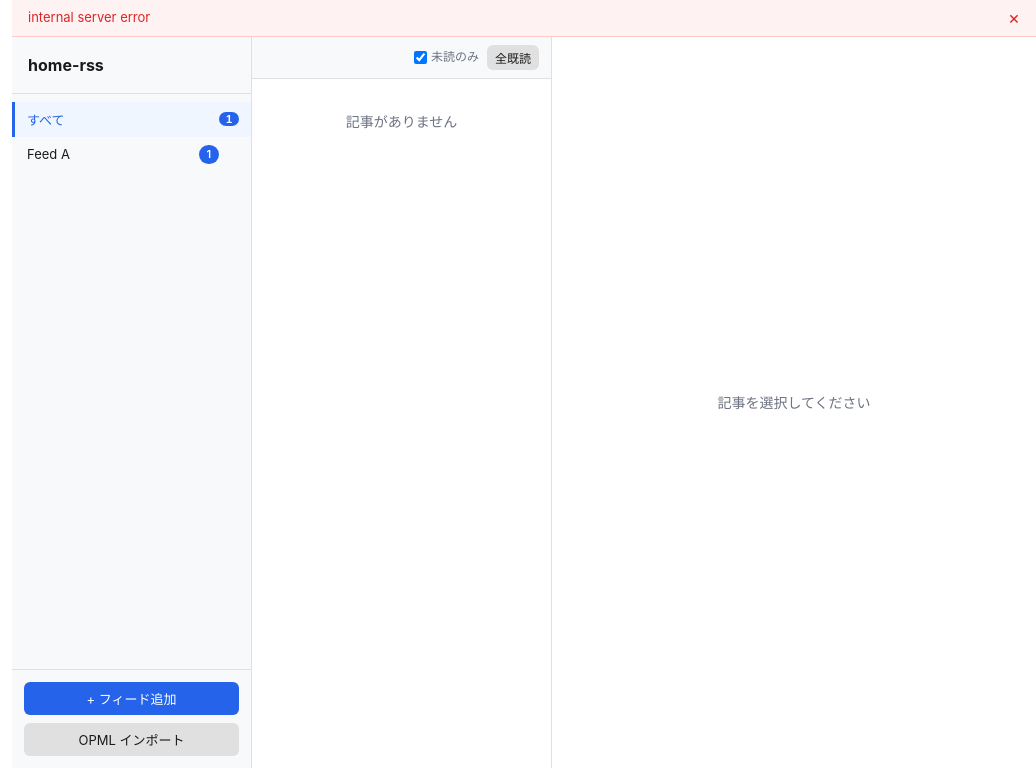
Test: App › the error banner › is cleared when the next action starts
Expected: the element with class "error-banner" is shown, [12,0,1035,36]
Click the button "全既読".
click(513, 57)  # box [487,44,539,70]
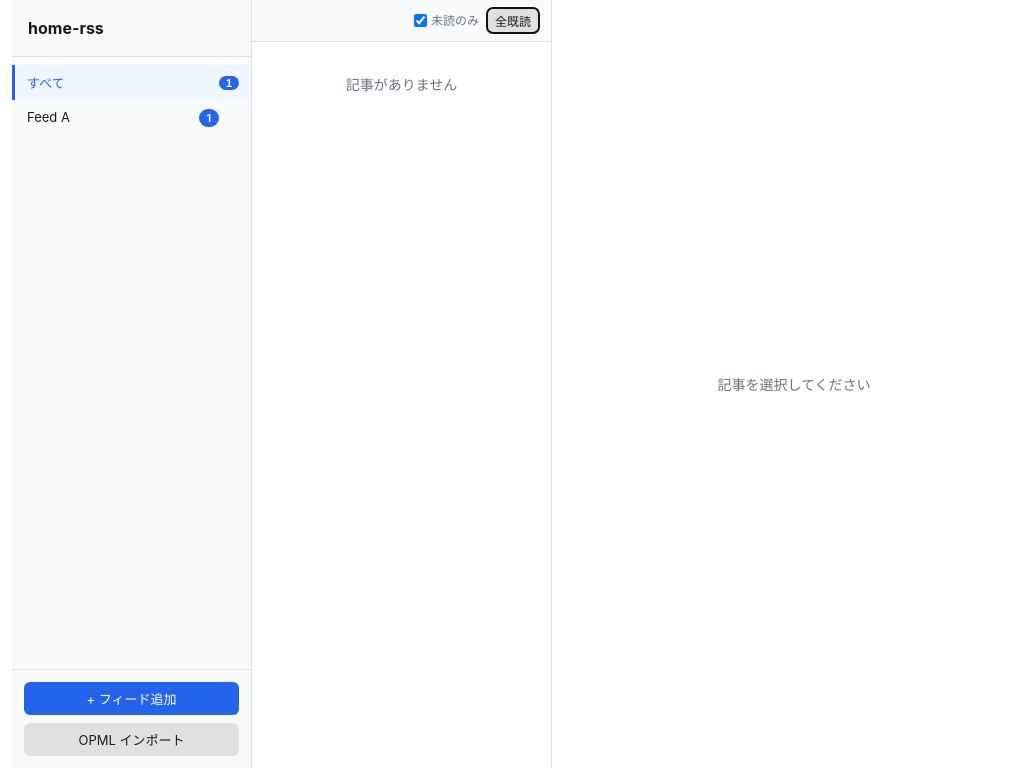
Now the element with class "error-banner" is gone
